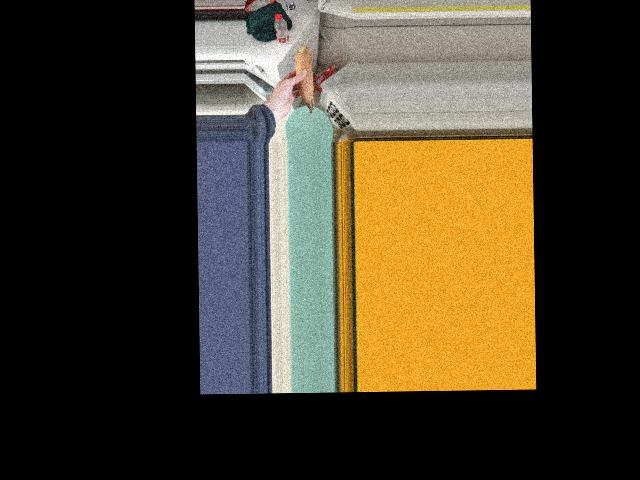sweet_potato: (290, 43, 315, 114)
